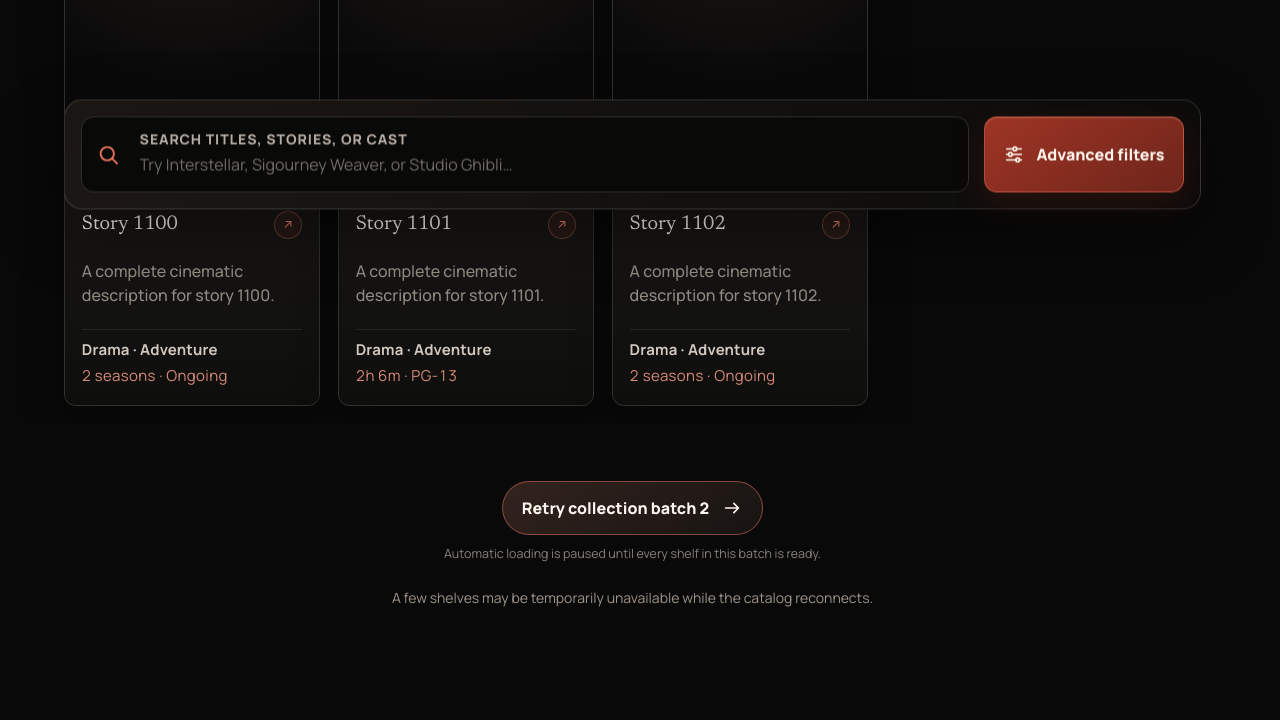
it: BrowseExperience › retries an incomplete section page before advancing the specialist index
The width and height of the screenshot is (1280, 720).
(page scrolled)
Click the button "Retry collection batch 2" at [632, 508], box [502,481,763,535]
(page scrolled)
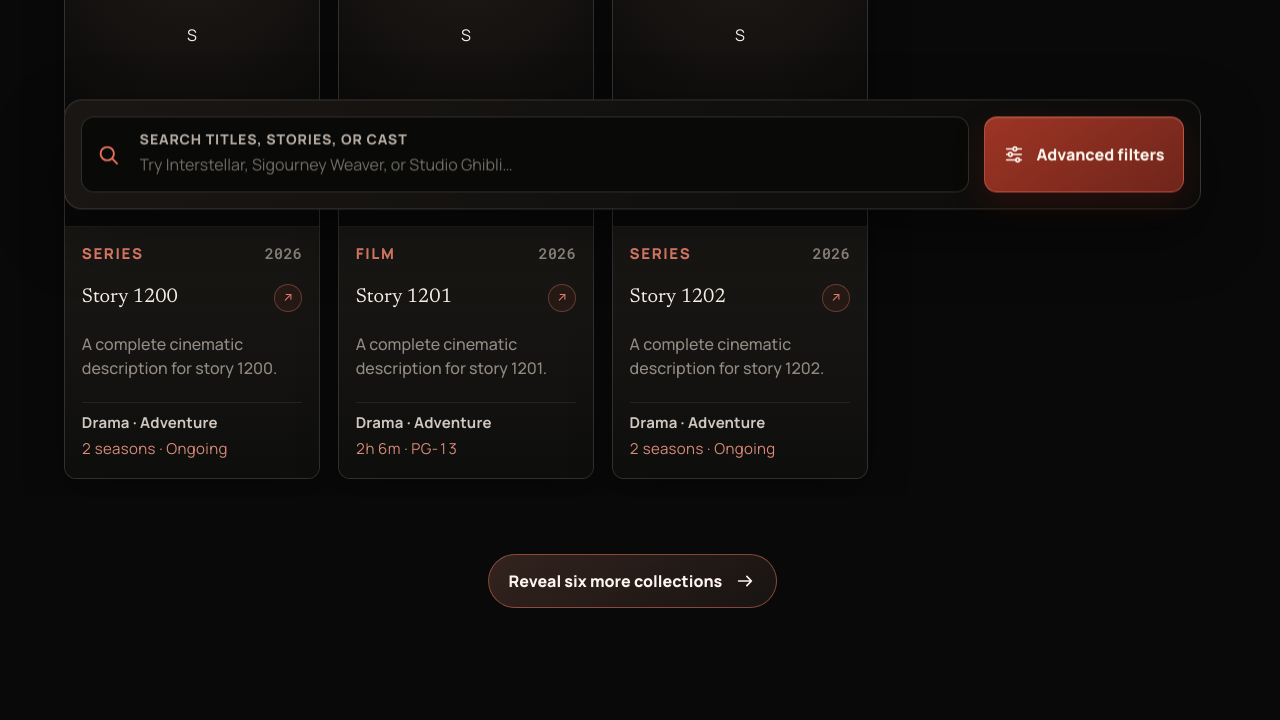
Expected: the button "Reveal six more collections" is shown, [488,554,776,608]
